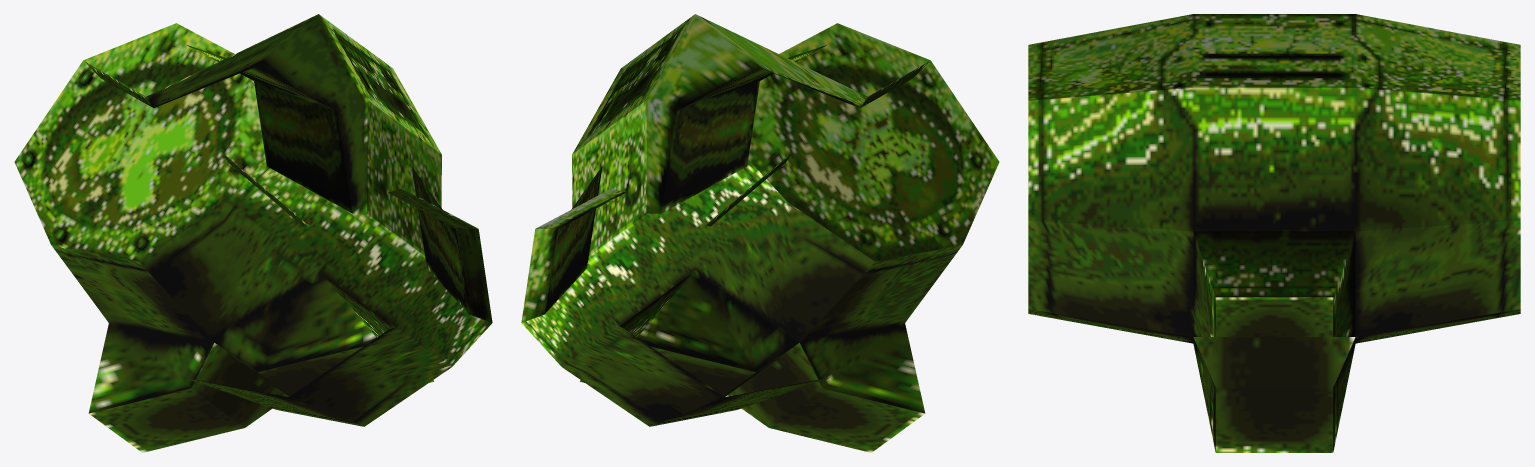
Rendered from HealthPack.gltf.
The picture shows the model from 3 angles, left to right: view 1: azimuth 30°, elevation 25°; view 2: azimuth 150°, elevation 25°; view 3: azimuth 270°, elevation 25°; orthographic projection. The views are drawn at different scales.
Parts seen in each view (by area): view 1: HealthPack; view 2: HealthPack; view 3: HealthPack.
Boxes of the visible parts, bbox=[...] form: HealthPack: bbox=[14, 14, 492, 452]; HealthPack: bbox=[521, 14, 999, 452]; HealthPack: bbox=[1028, 14, 1520, 452].
Size of the model in its own units: 0.4679 by 0.4892 by 0.6.
Materials: 2 (2 with a texture image).
